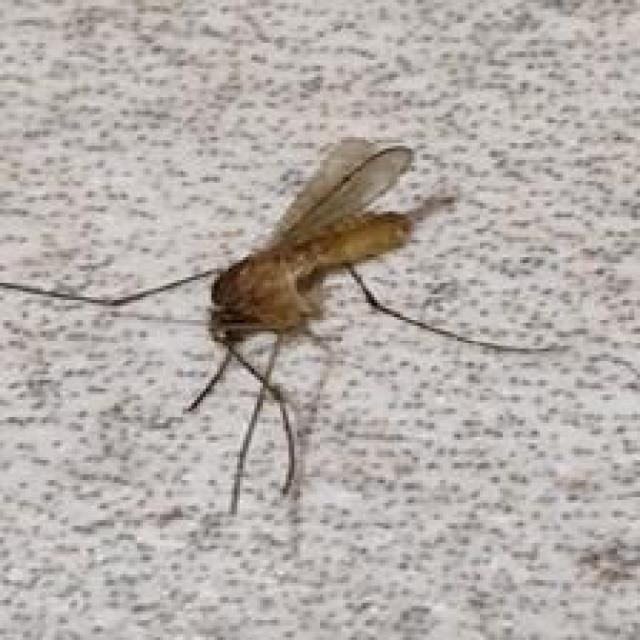Culex: (0, 134, 569, 517)
